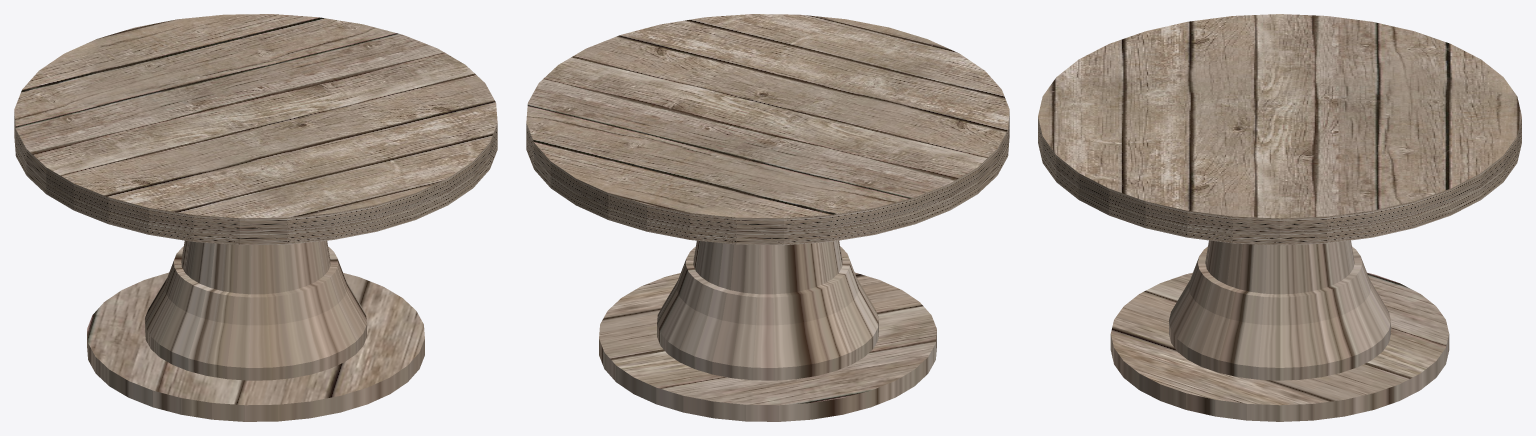
Rendered from Mesa.obj.
The picture shows the model from 3 angles, left to right: view 1: azimuth 30°, elevation 25°; view 2: azimuth 150°, elevation 25°; view 3: azimuth 270°, elevation 25°; orthographic projection.
Visible parts, largest first — view 1: Mesa; view 2: Mesa; view 3: Mesa.
Part boxes in pixels (x1=…): Mesa: x1=14, y1=14, x2=497, y2=421; Mesa: x1=526, y1=14, x2=1009, y2=421; Mesa: x1=1038, y1=14, x2=1521, y2=421.
Size of the model in its own units: 3 by 1.6 by 3.
Materials: 1 (1 with a texture image).
